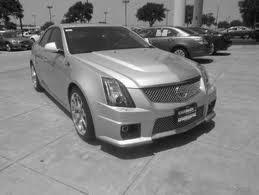car: (29, 24, 219, 151)
